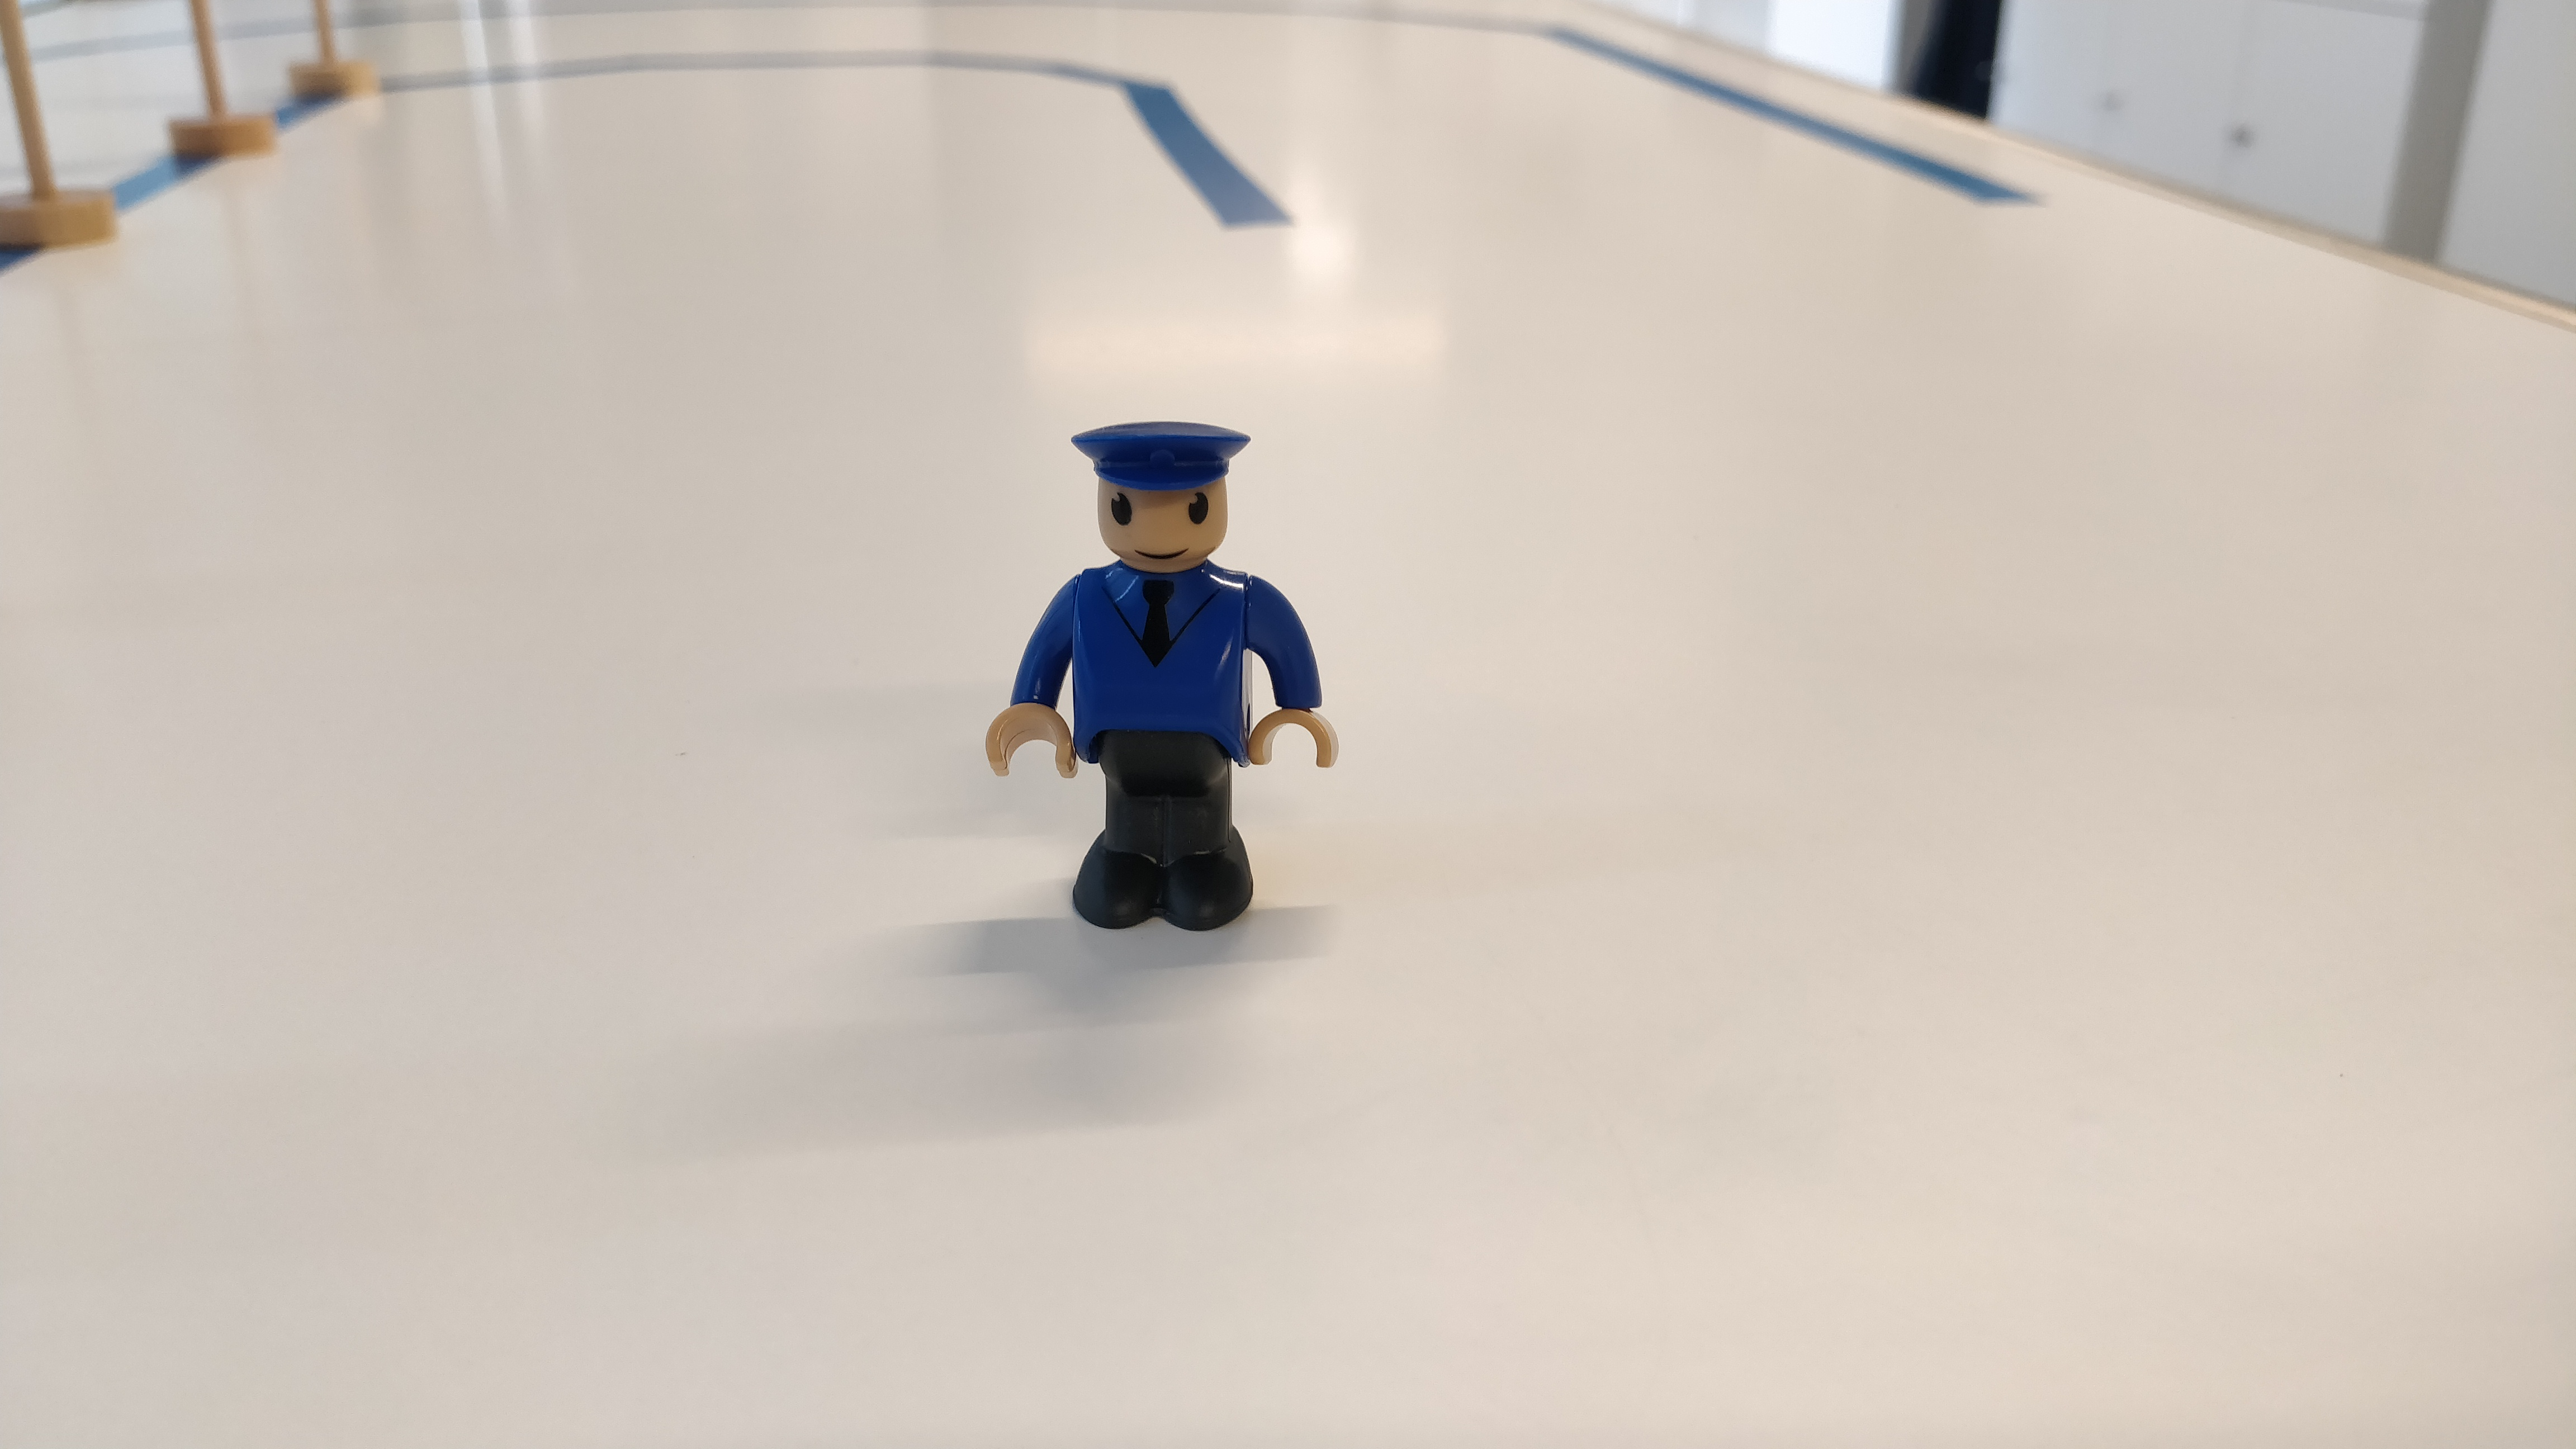Person: (983, 415, 1345, 937)
